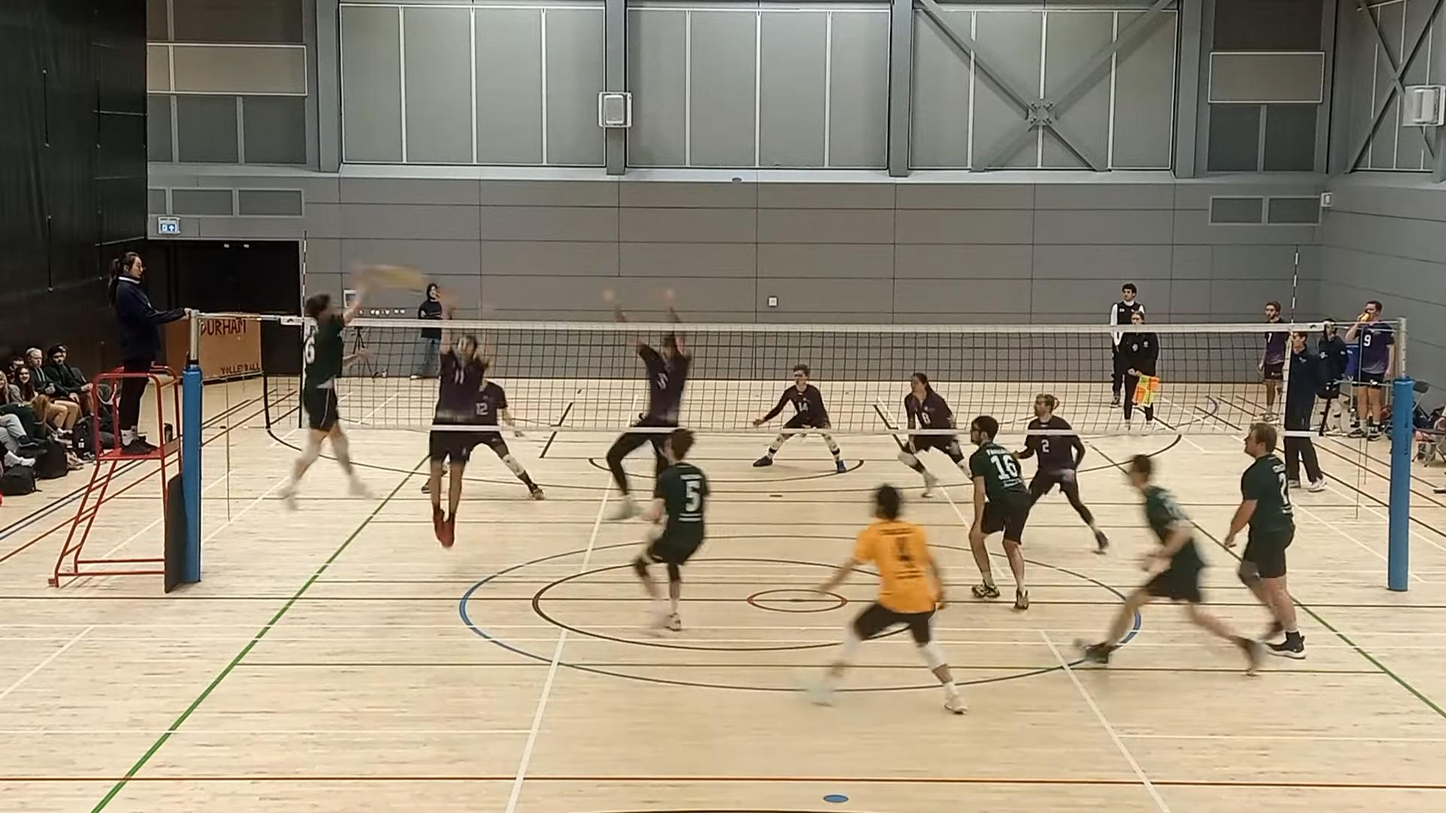Attack: (279, 271, 378, 512)
Block: (591, 272, 695, 532), (413, 279, 497, 556)
Player: (1077, 455, 1260, 674), (810, 485, 966, 713), (1225, 423, 1304, 659), (633, 429, 709, 631), (1017, 393, 1108, 553), (968, 416, 1033, 610), (475, 343, 545, 500), (752, 364, 846, 473), (898, 434, 966, 497)
